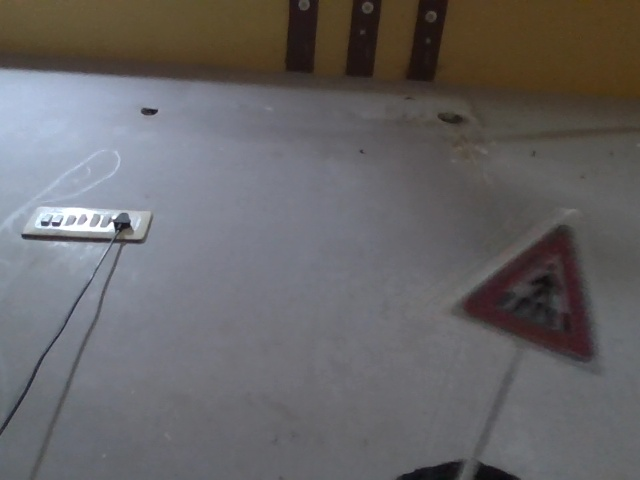crossing: (457, 167, 606, 379)
